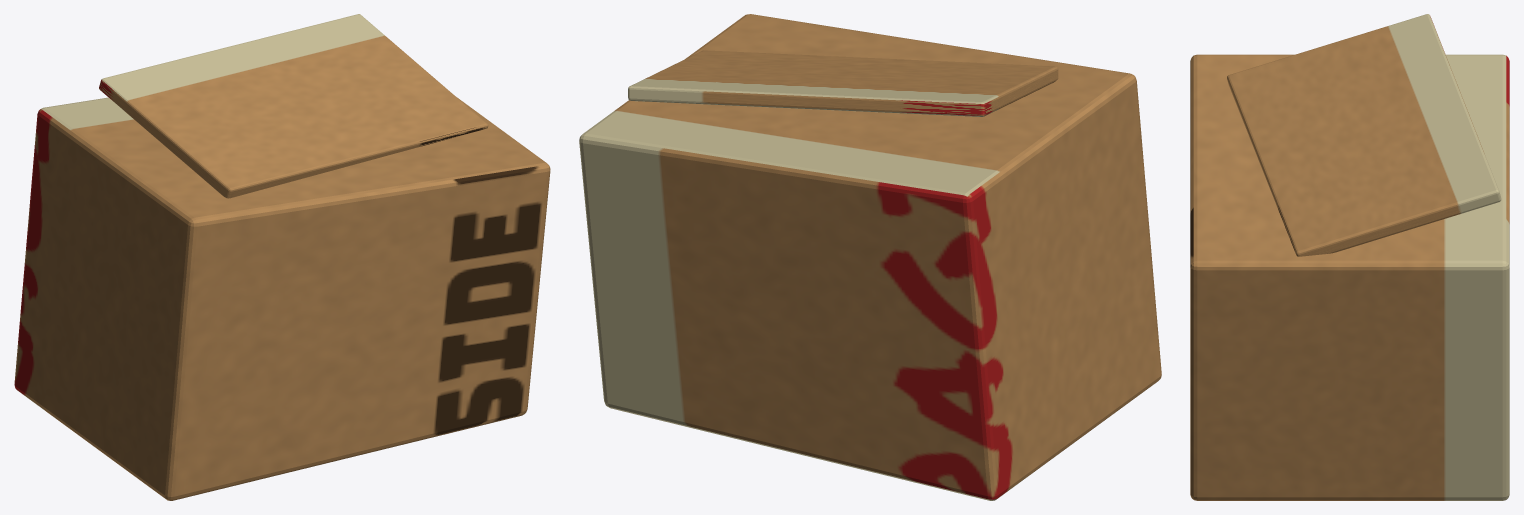
Rendered from Trash_Cardboard.fbx.
3 views of the same model, side by side, from view 1: azimuth 30°, elevation 25°; view 2: azimuth 150°, elevation 25°; view 3: azimuth 270°, elevation 25° (orthographic). The views are drawn at different scales.
Visible parts, largest first — view 1: Trash_Cardboard; view 2: Trash_Cardboard; view 3: Trash_Cardboard.
Part boxes in pixels (x1,y1,x2,y2): Trash_Cardboard: (14, 14, 550, 500); Trash_Cardboard: (579, 14, 1161, 500); Trash_Cardboard: (1190, 14, 1509, 500).
Bounding box in the file's own units: 0.6381 × 0.5201 × 0.45.
1 material, 1 textured.
